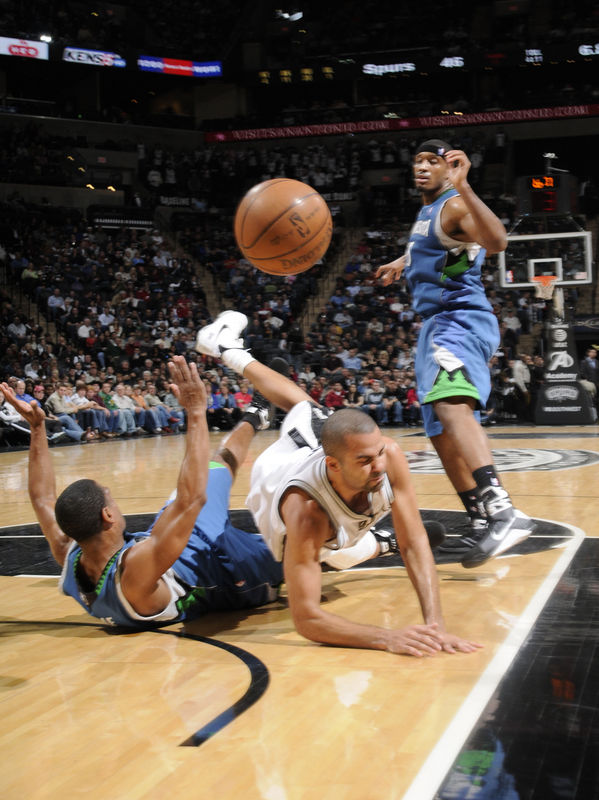10+: (2, 94, 591, 580)
down: (183, 293, 477, 674), (19, 355, 287, 637)
